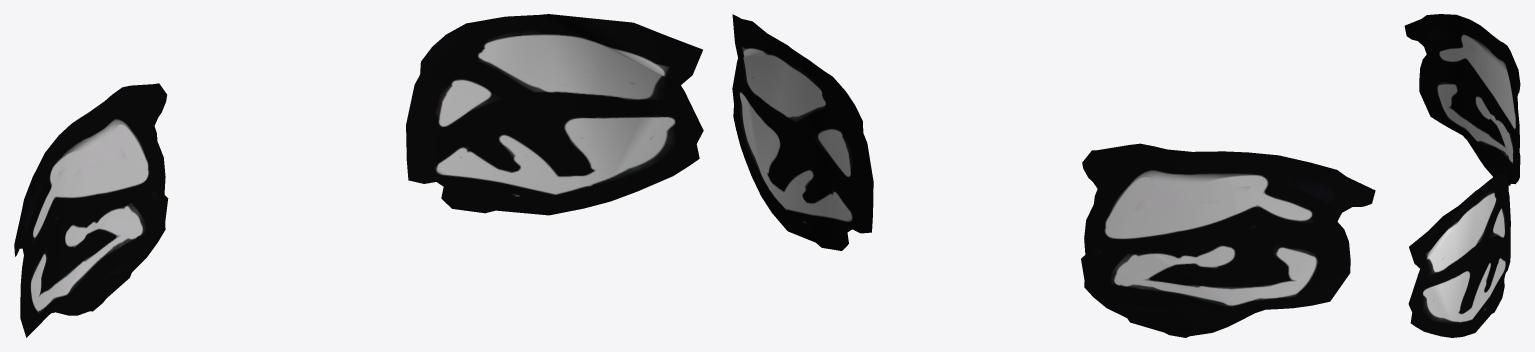
Rendered from 26-Silly-Cute-Fat-Little-thing-Animated-eyes.glb.
3 views of the same model, side by side, from view 1: azimuth 30°, elevation 25°; view 2: azimuth 150°, elevation 25°; view 3: azimuth 270°, elevation 25° (orthographic). The views are drawn at different scales.
Parts seen in each view (by area): view 1: 26-Silly-Cute-Fat-Little-thing-Animated-eyes; view 2: 26-Silly-Cute-Fat-Little-thing-Animated-eyes; view 3: 26-Silly-Cute-Fat-Little-thing-Animated-eyes.
Part boxes in pixels (box(x1,y1,x2,y2)): 26-Silly-Cute-Fat-Little-thing-Animated-eyes: box(14, 14, 703, 337); 26-Silly-Cute-Fat-Little-thing-Animated-eyes: box(732, 14, 1375, 337); 26-Silly-Cute-Fat-Little-thing-Animated-eyes: box(1404, 14, 1520, 337).
Bounding box in the file's own units: 0.8606 × 0.2494 × 0.1771.
2 materials, 2 textured.
